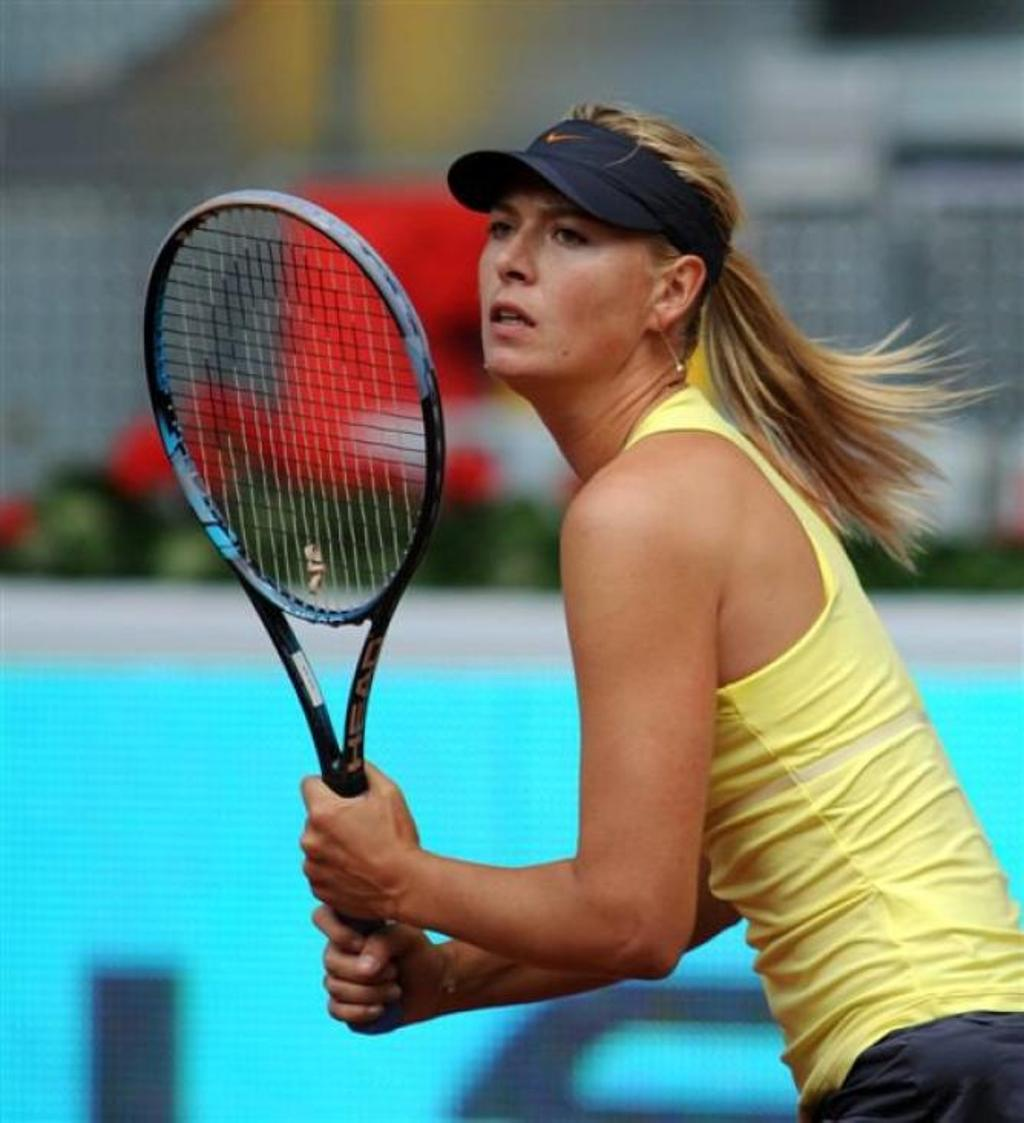face: (480, 182, 651, 379)
